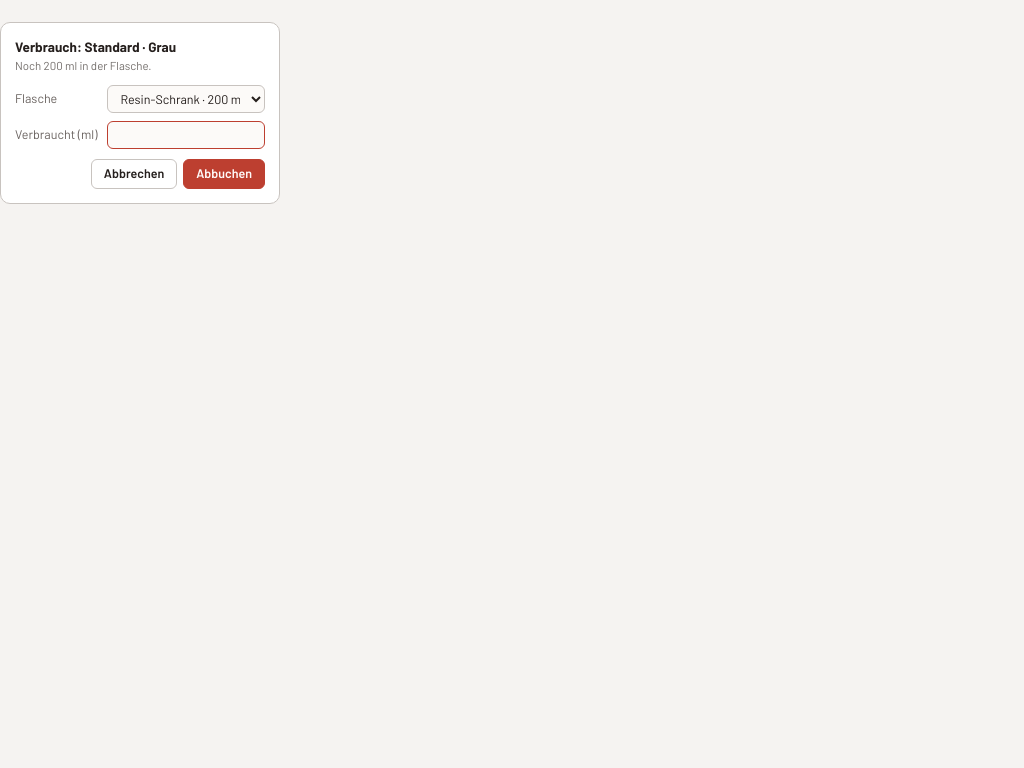
it: ConsumeResinPopover with several bottles › moves the preselection to the smallest bottle that still covers the amount
The image size is (1024, 768).
Type "300" into the field labelled "Verbraucht (ml)". click: (186, 134)
box: top-left (107, 120), bottom-right (265, 148)
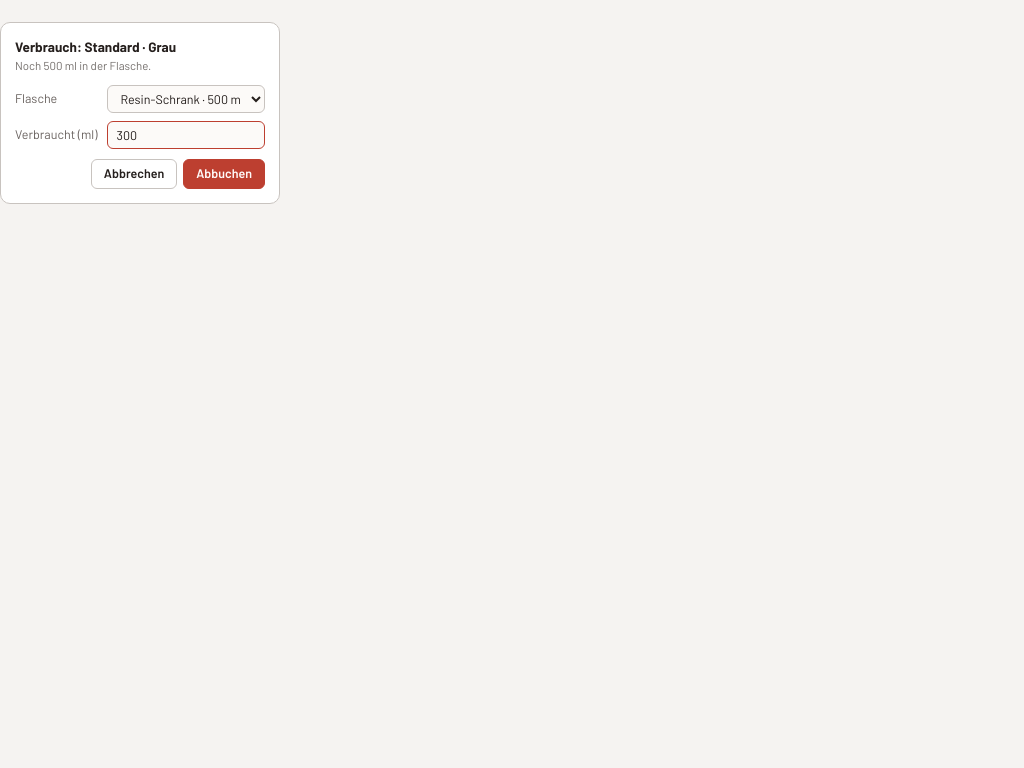
Expected: the dropdown labelled "Flasche" shows "Resin-Schrank · 500 ml (Vorschlag: geringster Rest, der noch reicht)", top-left (107, 84), bottom-right (265, 112)
Replace the text in the field labelled "Verbraucht (ml)" with "700". click: (186, 134)
box: top-left (107, 120), bottom-right (265, 148)
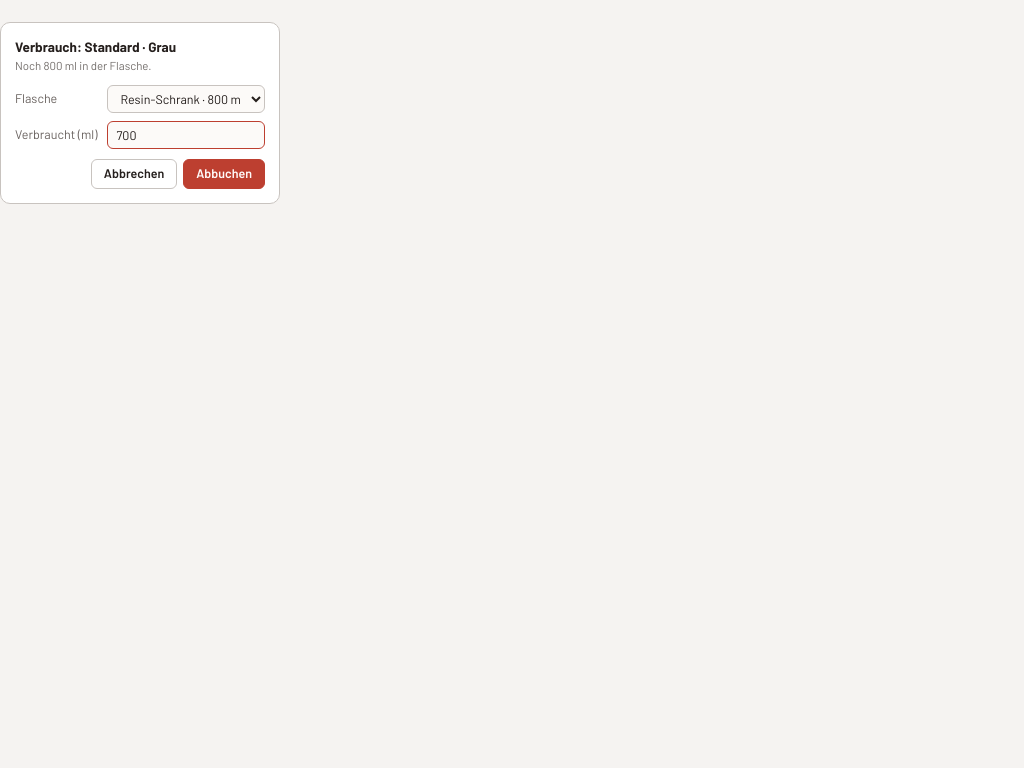
Expected: the dropdown labelled "Flasche" shows "Resin-Schrank · 800 ml (Vorschlag: geringster Rest, der noch reicht)", top-left (107, 84), bottom-right (265, 112)
